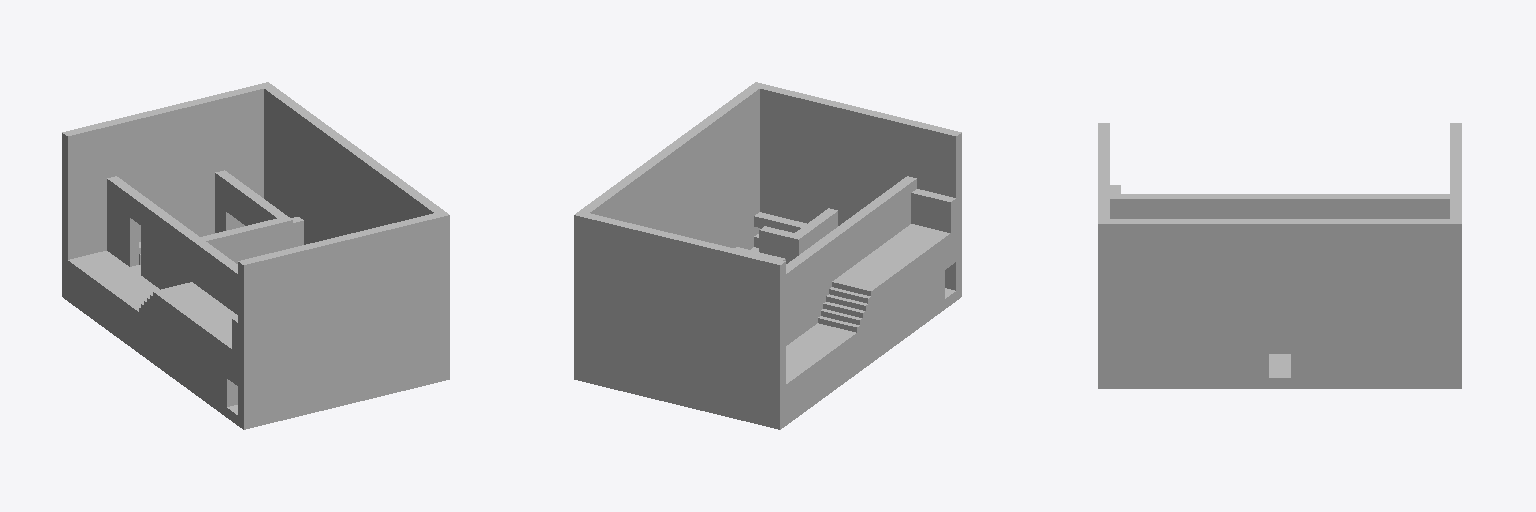
Rendered from new_ivan_labyrinth_right.obj.
The picture shows the model from 3 angles: view 1: azimuth 30°, elevation 25°; view 2: azimuth 150°, elevation 25°; view 3: azimuth 270°, elevation 25°; orthographic projection.
Visible parts, largest first — view 1: object 1; view 2: object 1; view 3: object 1.
Boxes of the visible parts, x1=… form: object 1: x1=62, y1=82, x2=449, y2=429; object 1: x1=574, y1=82, x2=961, y2=429; object 1: x1=1098, y1=123, x2=1461, y2=388.
Bounding box in the file's own units: 12.6 × 9.6 × 19.2.